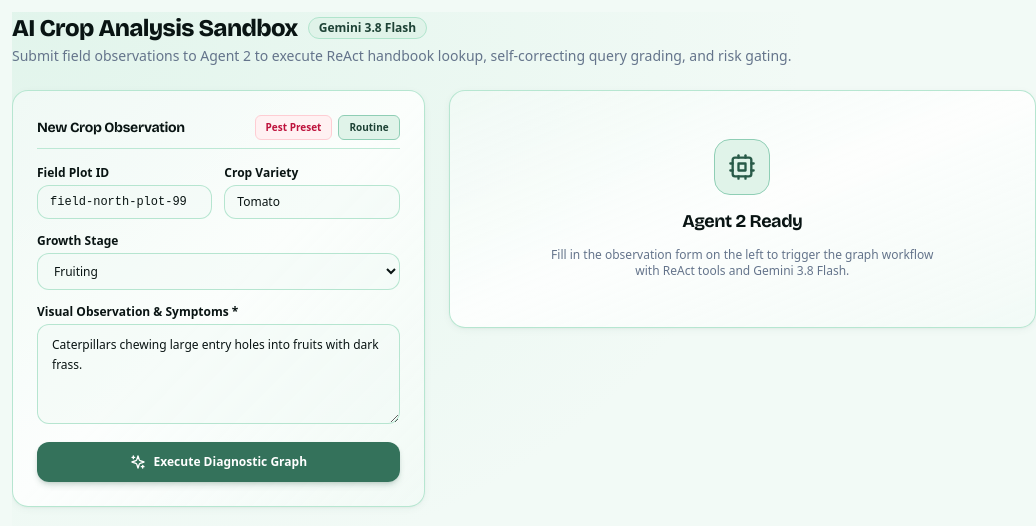
Test: CropAnalysisView Component (Form Validation & Quick-Fill Presets) › updates form fields when Routine preset is clicked
Click the button "Routine" at (369, 128), box [338,115,400,140]
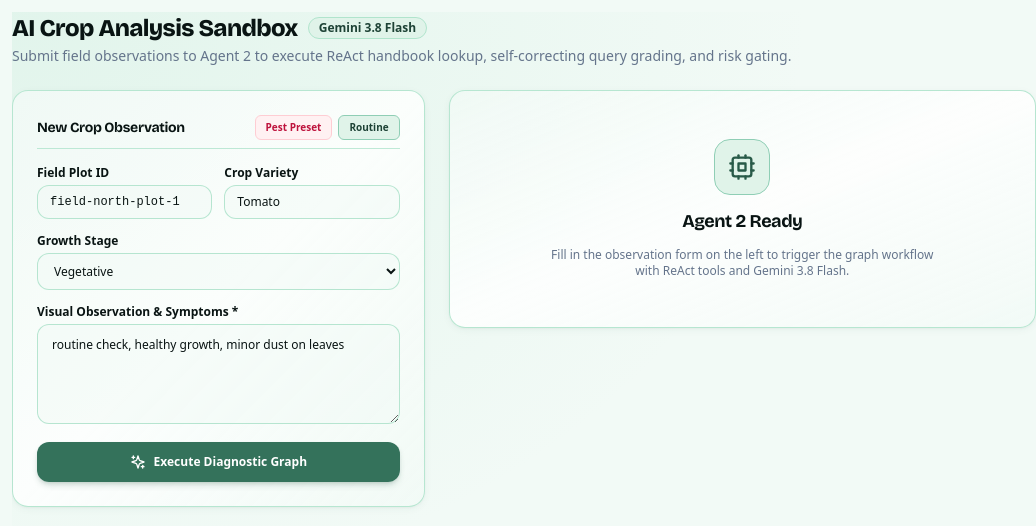
Expected: the text box showing "routine check, healthy growth, minor dust on leaves" is shown, [37,324,400,424]
